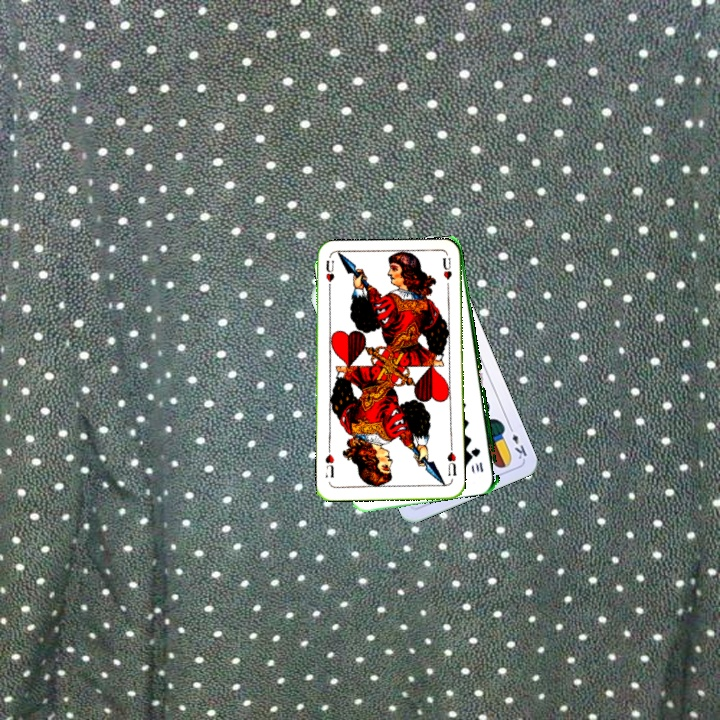EK: (505, 422, 530, 462)
G10: (469, 444, 486, 474)
HU: (322, 256, 337, 296), (443, 443, 459, 478)
